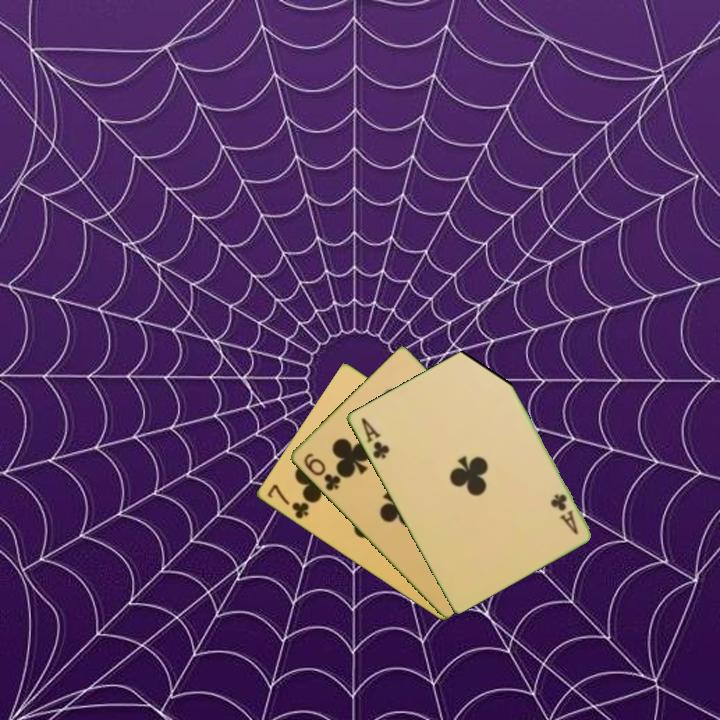6c: (300, 449, 343, 494)
7c: (263, 481, 312, 522)
Ac: (546, 490, 581, 538), (357, 414, 392, 461)
